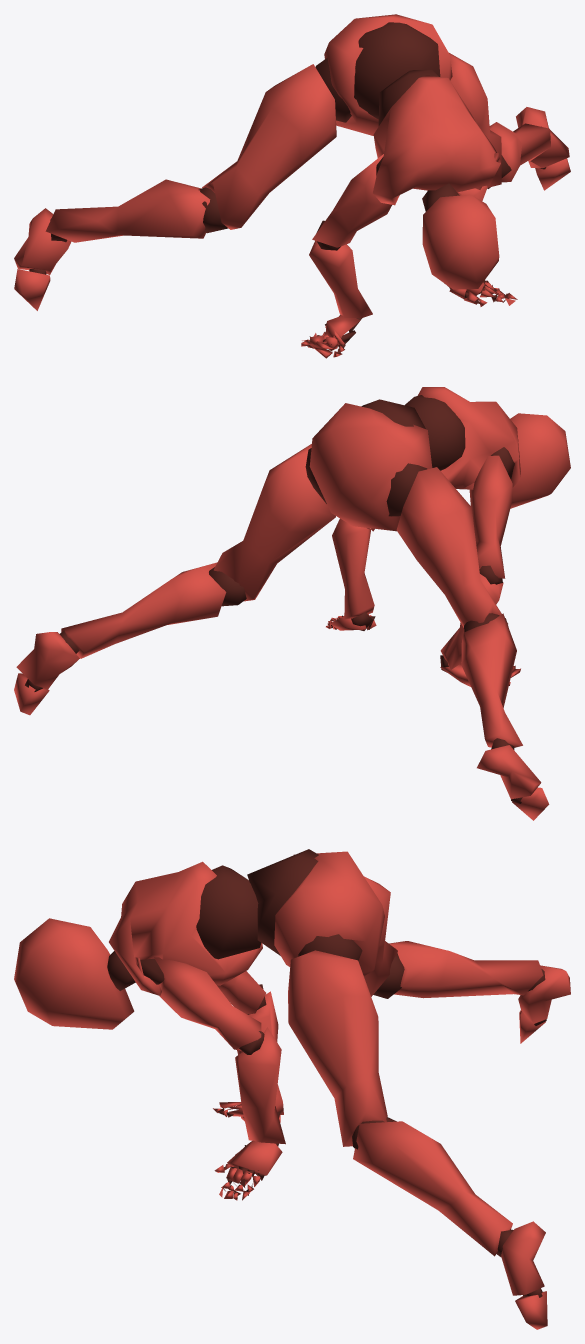
The picture shows the model from 3 angles, top to bottom: view 1: azimuth 30°, elevation 25°; view 2: azimuth 150°, elevation 25°; view 3: azimuth 270°, elevation 25°; orthographic projection. The views are drawn at different scales.
Parts seen in each view (by area): view 1: Beta_Surface; view 2: Beta_Surface; view 3: Beta_Surface.
Boxes of the visible parts, <box> form: Beta_Surface: <box>14,14,570,358</box>; Beta_Surface: <box>14,387,570,820</box>; Beta_Surface: <box>14,849,570,1329</box>.
Size of the model in its own units: 16.37 by 8.71 by 12.99.
